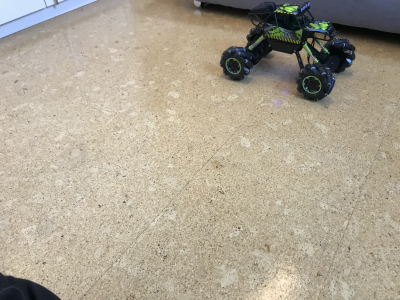remote control car: (219, 1, 359, 103)
